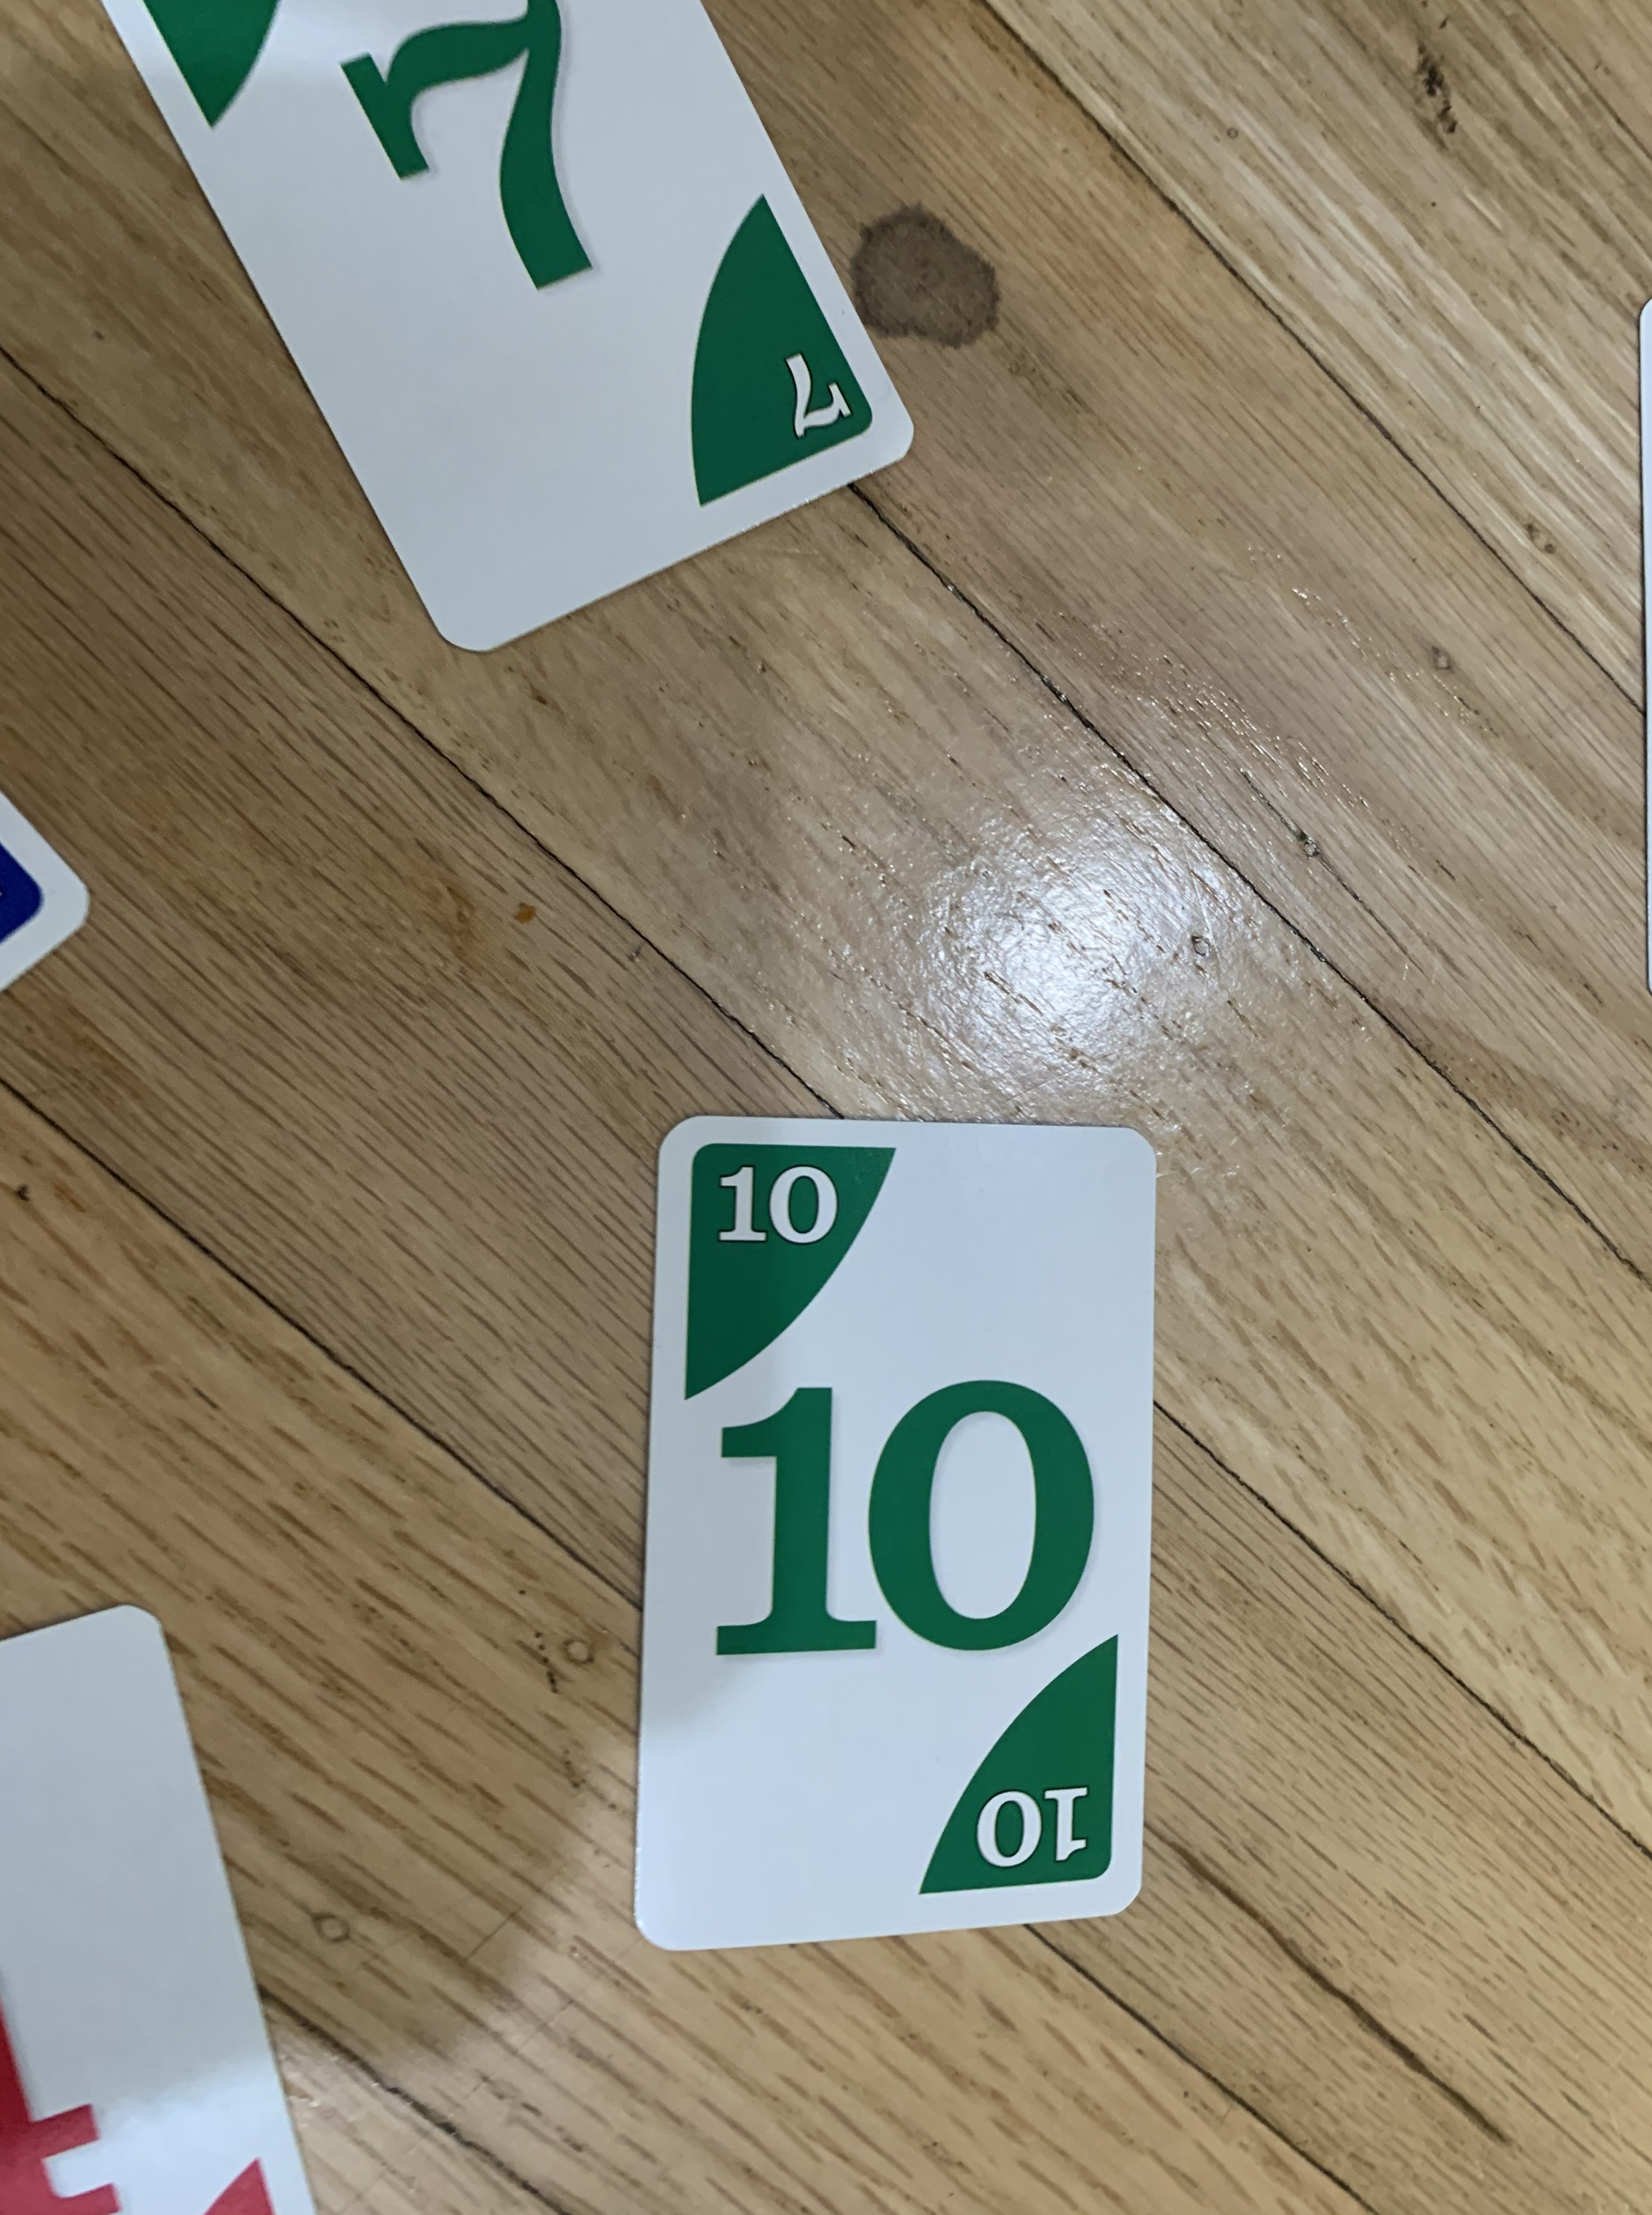seven: (80, 0, 915, 634)
ten: (619, 1111, 1161, 1960)
